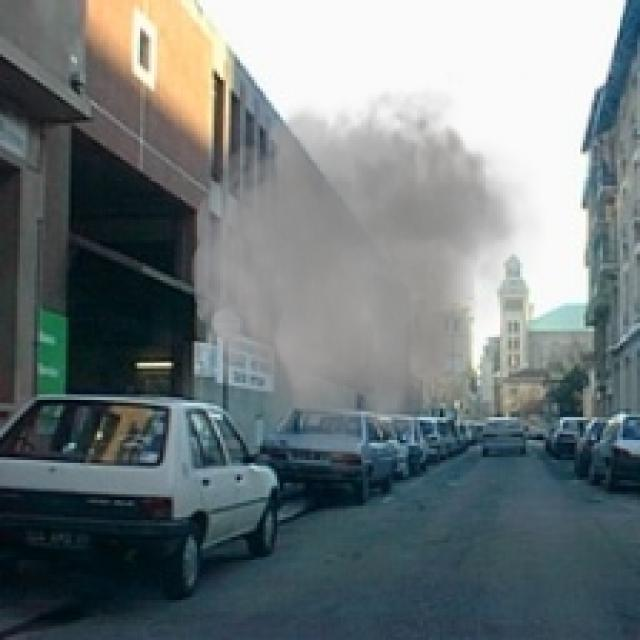Smoke: (183, 71, 546, 486)
